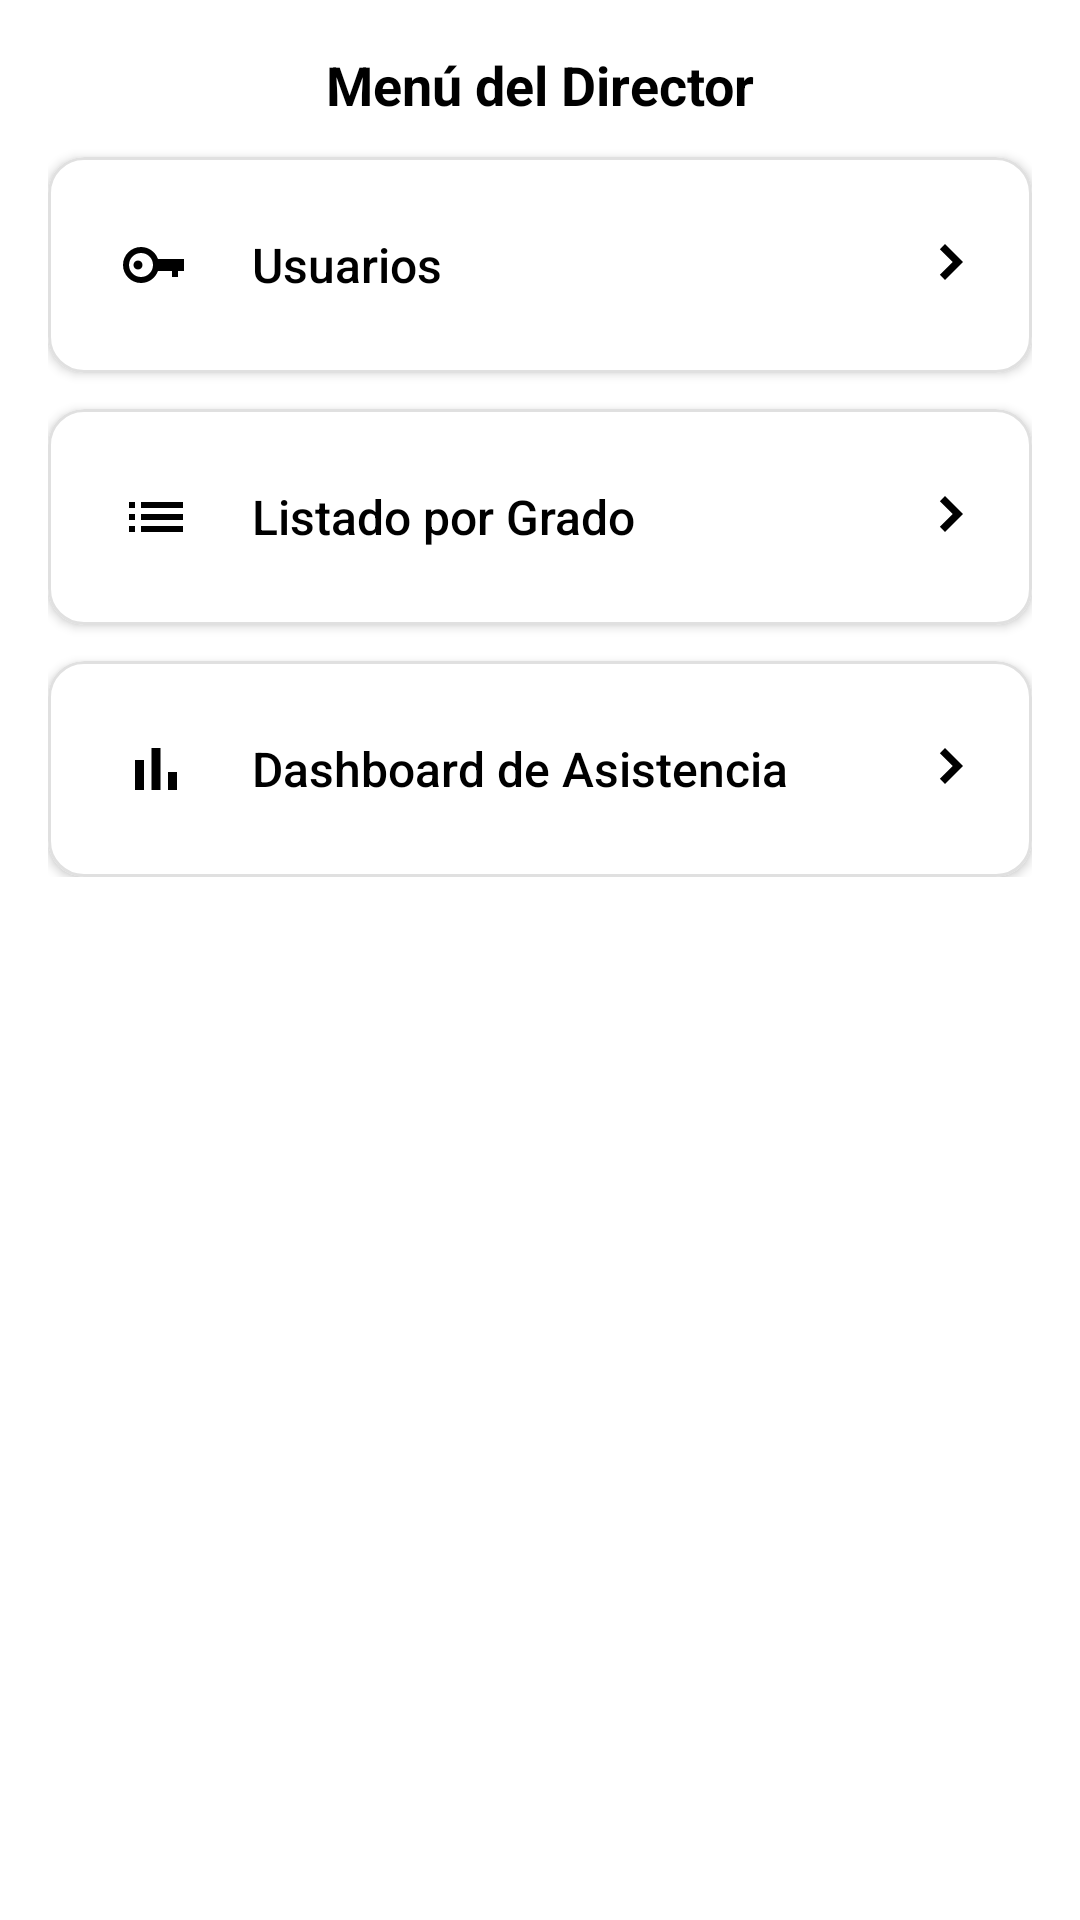

Screen size 1080px x 1920px. Icon name, then its box in pixels as (x1,y1,x2,y2):
chart: (135,748,177,790)
chevron right: (940,244,963,280), (940,496,963,532), (940,748,963,784)
key: (123,247,184,283)
